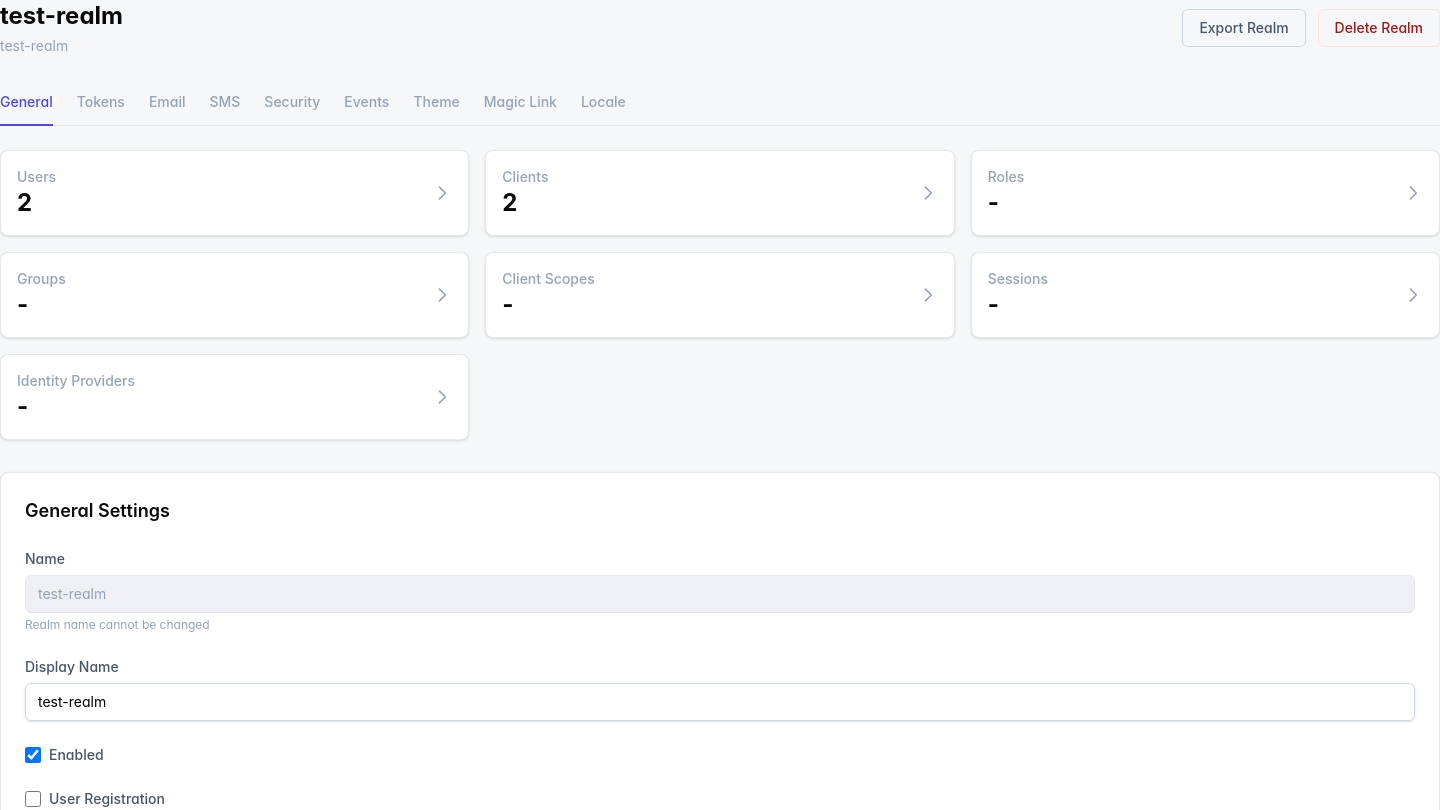
Scenario: RealmDetailPage › switches to the Tokens tab
Check: the heading "General Settings" is shown, box [25,500,170,521]
Step 1. Click the button "Tokens" → point(101, 103), box [77,80,125,126]
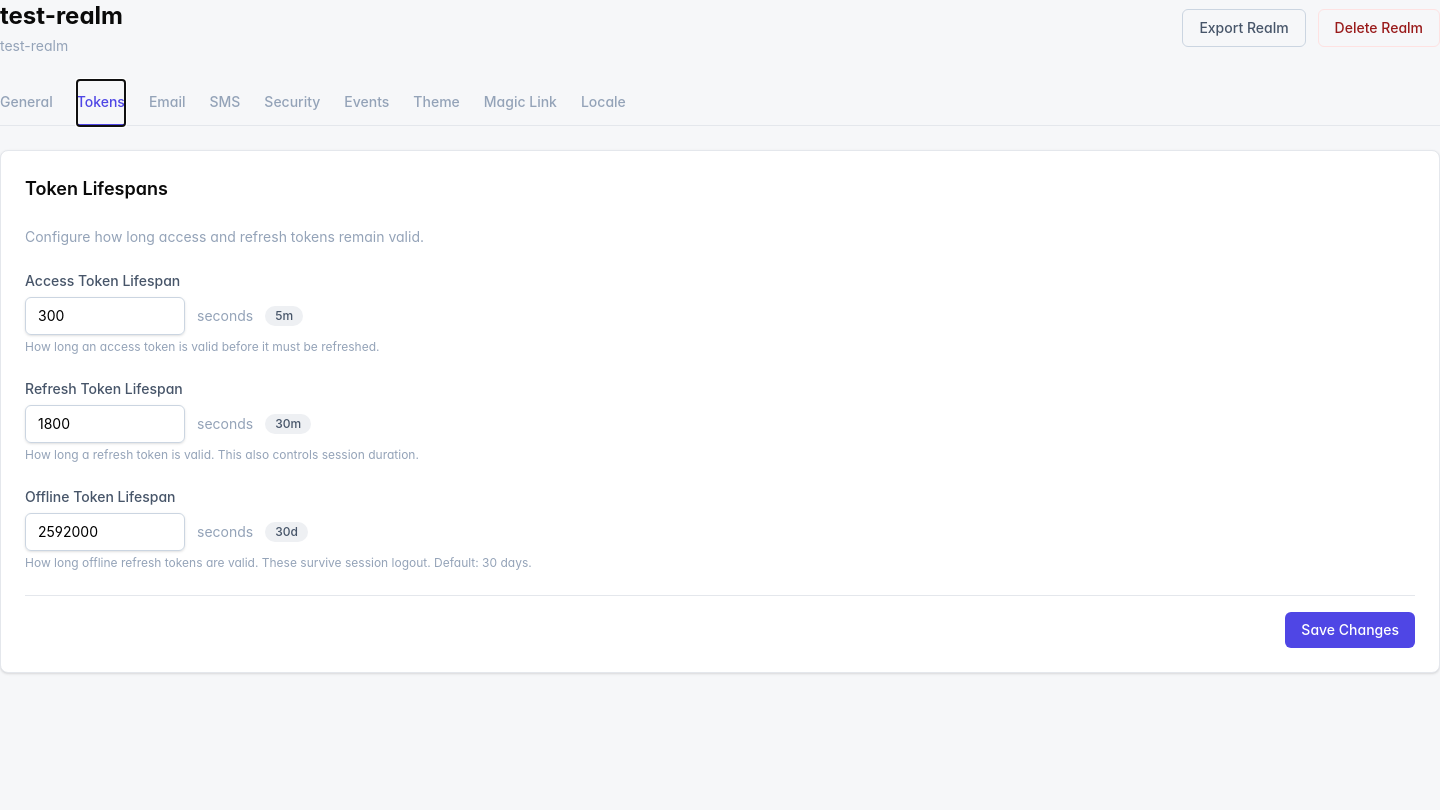
Check: the heading "Token Lifespans" is shown, box [25,178,168,199]
